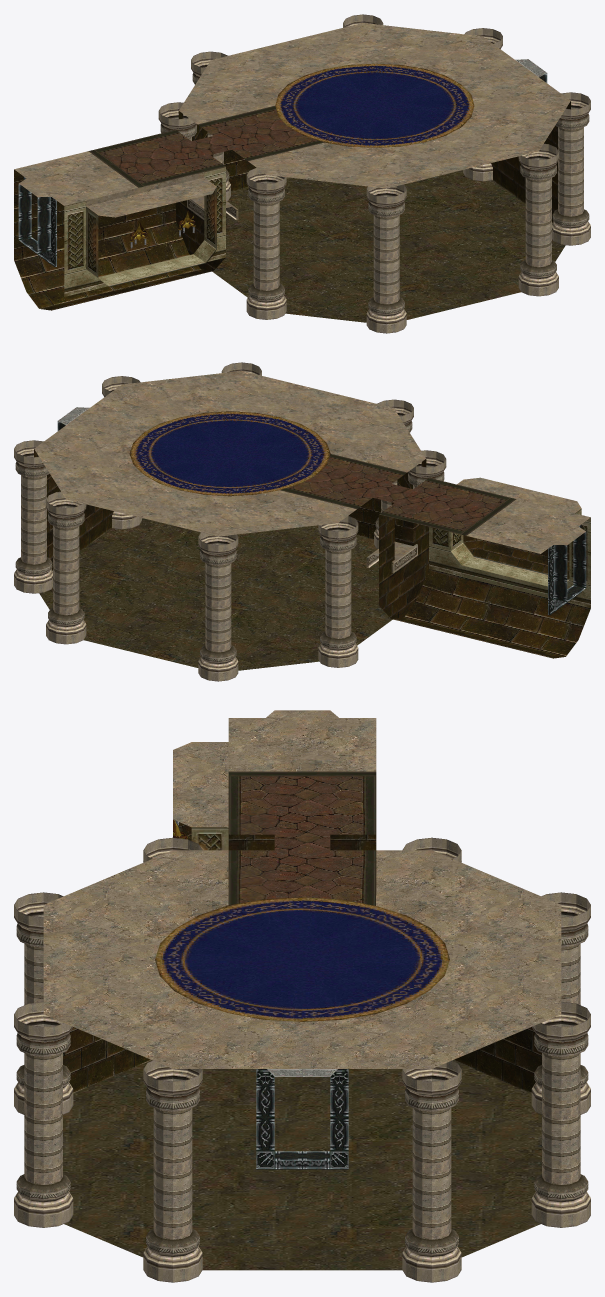
3 renders of one model, top to bottom at view 1: azimuth 30°, elevation 25°; view 2: azimuth 150°, elevation 25°; view 3: azimuth 270°, elevation 25°, orthographic. The views are drawn at different scales.
Visible parts, largest first — view 1: node-01CE56CA, node-02497613, node-0118DC4C, node-03313EBC, node-009526B3, node-00BB34A0, node-033BA6B3, node-00410D1E, node-0294D9A2; view 2: node-01CE56CA, node-02497613, node-0118DC4C, node-009526B3, node-03313EBC, node-00BB34A0, node-033BA6B3, node-00410D1E; view 3: node-01CE56CA, node-02497613, node-0118DC4C, node-03313EBC, node-00BB34A0, node-009526B3, node-00410D1E, node-033BA6B3.
Boxes of the visible parts, bbox=[...] form: node-01CE56CA: bbox=[14, 23, 570, 217]; node-02497613: bbox=[212, 170, 565, 322]; node-0118DC4C: bbox=[158, 14, 590, 333]; node-03313EBC: bbox=[275, 63, 474, 147]; node-009526B3: bbox=[14, 101, 570, 310]; node-00BB34A0: bbox=[88, 106, 323, 187]; node-033BA6B3: bbox=[64, 166, 225, 296]; node-00410D1E: bbox=[18, 73, 547, 267]; node-0294D9A2: bbox=[129, 210, 195, 248]; node-01CE56CA: bbox=[34, 371, 590, 553]; node-02497613: bbox=[39, 518, 392, 670]; node-0118DC4C: bbox=[14, 362, 446, 681]; node-009526B3: bbox=[34, 449, 590, 658]; node-03313EBC: bbox=[129, 411, 330, 496]; node-00BB34A0: bbox=[280, 454, 516, 535]; node-033BA6B3: bbox=[429, 509, 590, 608]; node-00410D1E: bbox=[57, 421, 586, 615]; node-01CE56CA: bbox=[43, 710, 561, 1068]; node-02497613: bbox=[63, 1060, 541, 1270]; node-0118DC4C: bbox=[14, 837, 590, 1282]; node-03313EBC: bbox=[155, 897, 449, 1021]; node-00BB34A0: bbox=[228, 771, 376, 905]; node-009526B3: bbox=[63, 820, 541, 1093]; node-00410D1E: bbox=[256, 1069, 348, 1169]; node-033BA6B3: bbox=[191, 827, 228, 850].
Bounding box in the file's own units: 374 × 94.49 × 246.
Materials: 11 (11 with a texture image).
